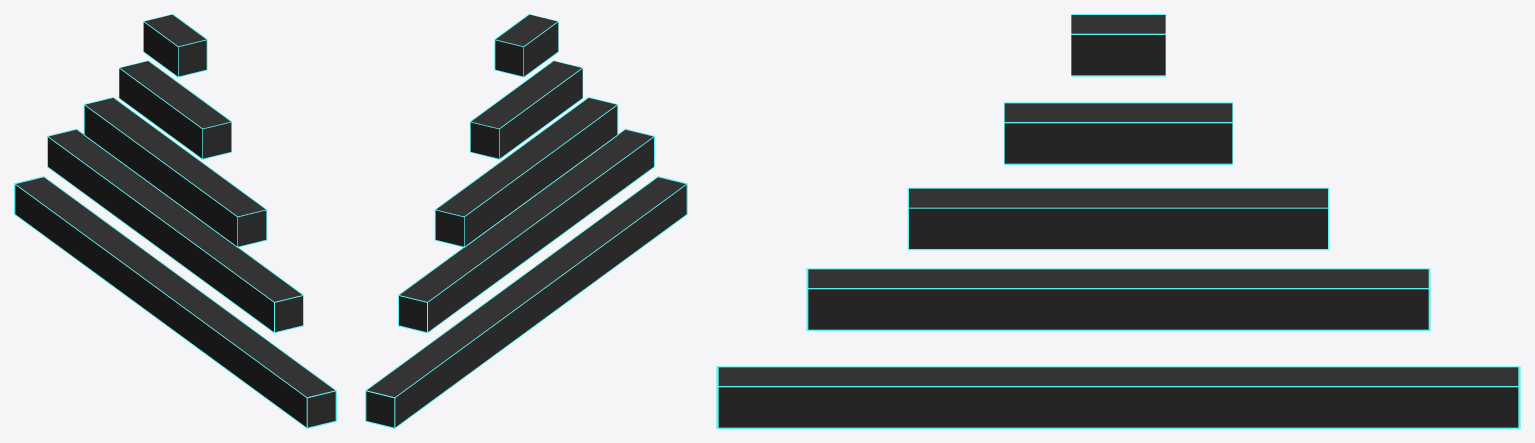
File: Platforms.fbx
3 renders of one model, left to right at view 1: azimuth 30°, elevation 25°; view 2: azimuth 150°, elevation 25°; view 3: azimuth 270°, elevation 25°, orthographic. The views are drawn at different scales.
Parts seen in each view (by area): view 1: platform.5, platform.4, platform.3, platform.2, platform.1; view 2: platform.5, platform.4, platform.3, platform.2, platform.1; view 3: platform.5, platform.4, platform.3, platform.2, platform.1.
Boxes of the visible parts, <box> form: platform.5: <box>14,176,336,428</box>; platform.4: <box>47,128,303,333</box>; platform.3: <box>83,97,267,247</box>; platform.2: <box>119,60,231,159</box>; platform.1: <box>143,14,207,77</box>; platform.5: <box>365,176,687,428</box>; platform.4: <box>398,128,654,333</box>; platform.3: <box>434,97,618,247</box>; platform.2: <box>470,60,582,159</box>; platform.1: <box>494,14,558,77</box>; platform.5: <box>716,366,1520,428</box>; platform.4: <box>806,268,1430,330</box>; platform.3: <box>907,187,1329,250</box>; platform.2: <box>1004,102,1232,164</box>; platform.1: <box>1071,14,1165,76</box>.
Bounding box in the file's own units: 56.12 × 519 × 957.
